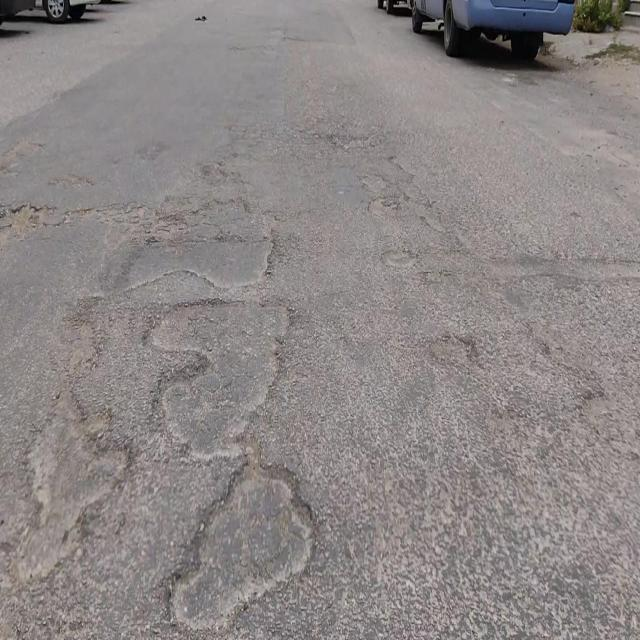Potholes: (163, 458, 319, 638), (6, 390, 136, 584), (142, 298, 298, 458), (108, 231, 277, 295)
